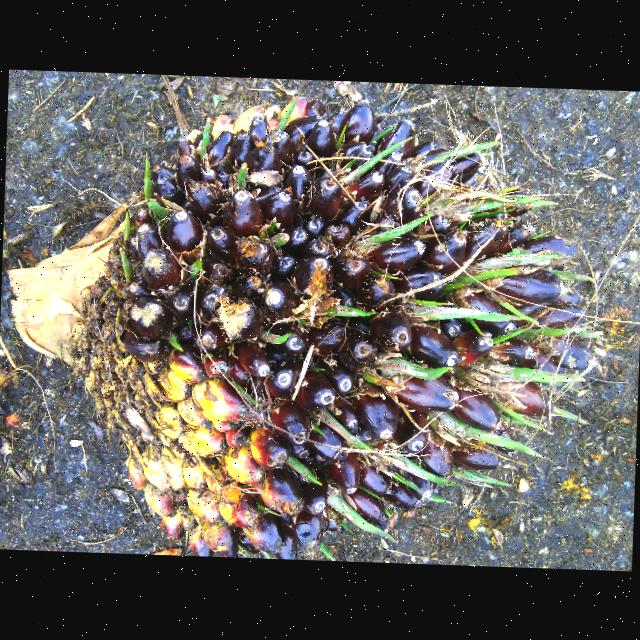Unripe: (88, 111, 577, 559)
